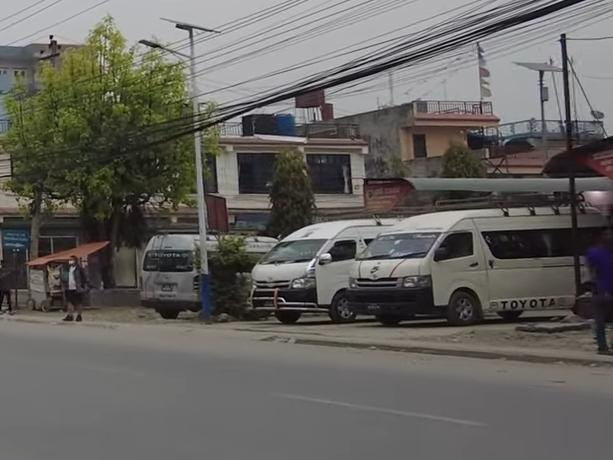micro_bus: (343, 193, 613, 340), (246, 200, 397, 329), (135, 231, 280, 315)
